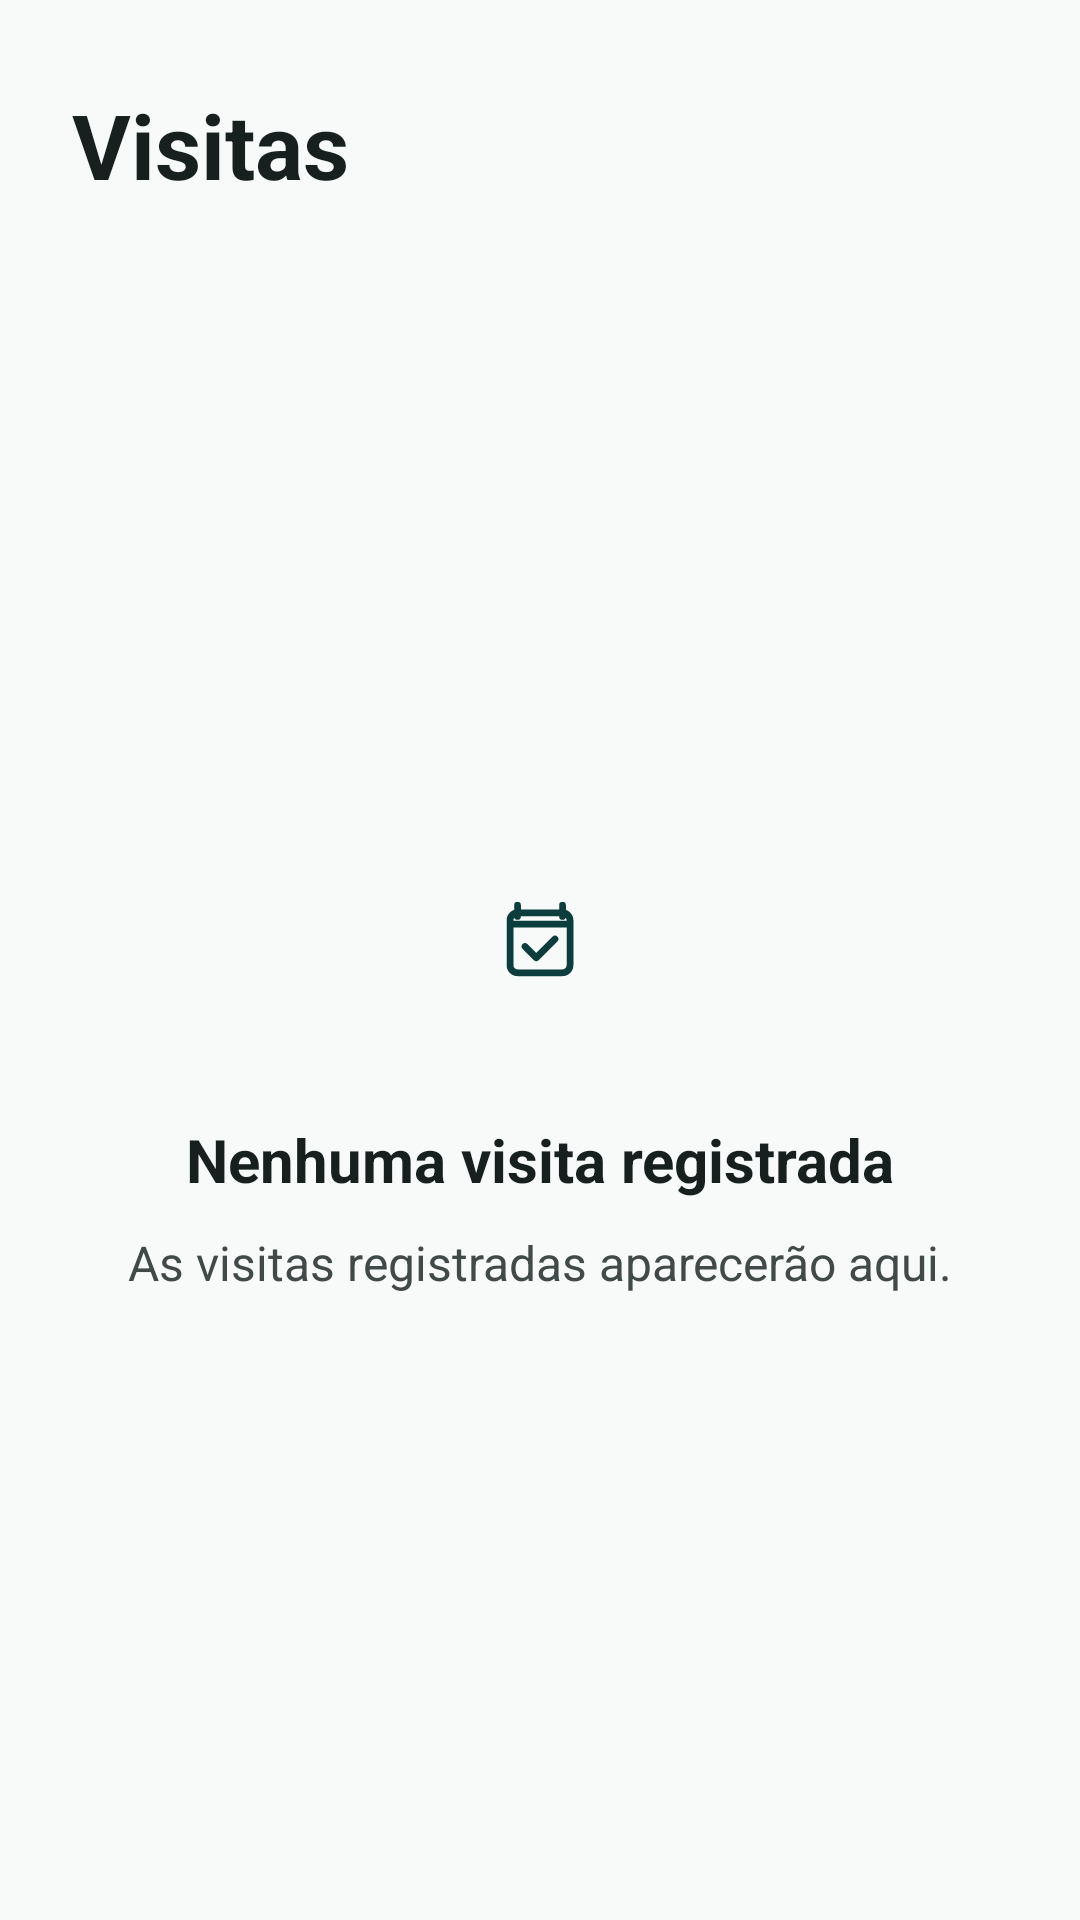

Named icons in this screenshot (1080x1920) and their bounding boxes, (x1, y1, x2, y2):
visits: (506, 902, 574, 977)
